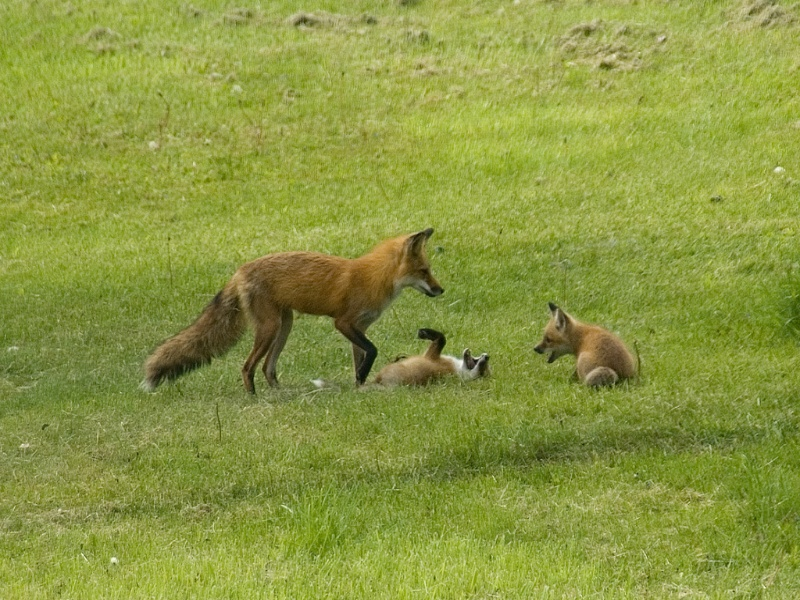fox: (139, 226, 444, 402), (533, 300, 648, 391), (363, 327, 496, 384)
